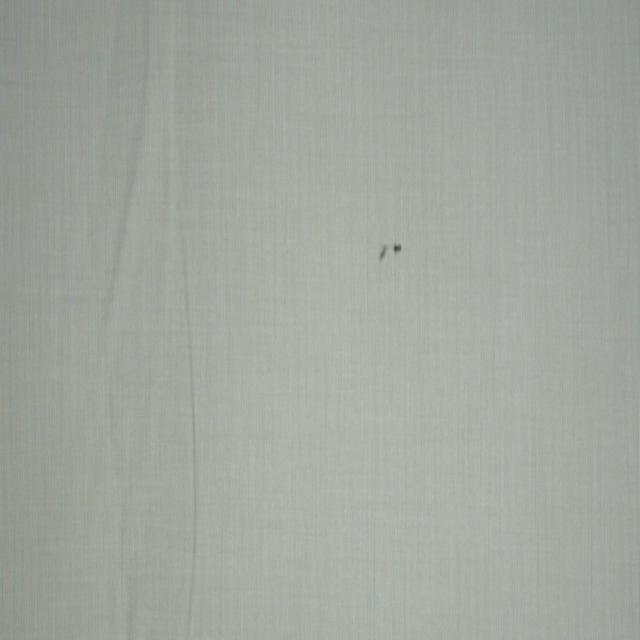dirty: (379, 241, 401, 266)
